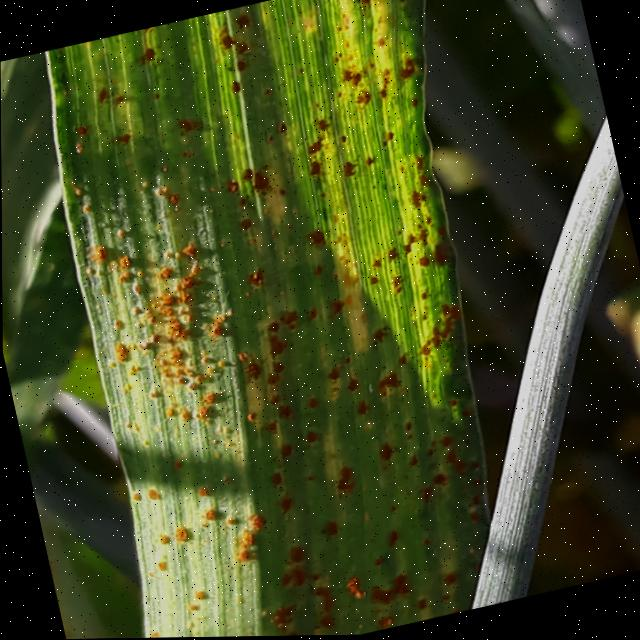orang_rust: (0, 0, 581, 640)
